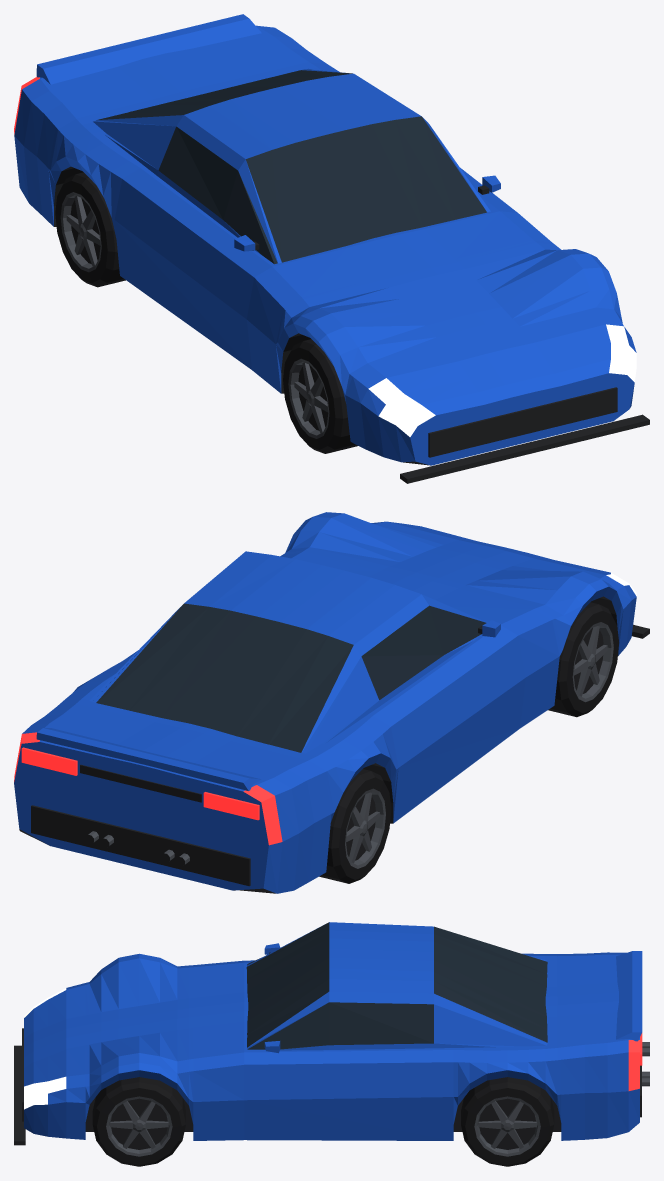
File: sports-car-01.glb
3 renders of one model, top to bottom at view 1: azimuth 30°, elevation 25°; view 2: azimuth 150°, elevation 25°; view 3: azimuth 270°, elevation 25°, orthographic. The views are drawn at different scales.
Visible parts, largest first — view 1: Body, Wheel_FR, Wheel_RR; view 2: Body, Wheel_RR, Wheel_FR; view 3: Body, Wheel_FL, Wheel_RL.
Boxes of the visible parts, <box> form: Body: <box>14,14,649,483</box>; Wheel_FR: <box>283,339,357,453</box>; Wheel_RR: <box>55,172,125,287</box>; Body: <box>14,512,649,893</box>; Wheel_RR: <box>319,769,391,883</box>; Wheel_FR: <box>548,602,619,717</box>; Body: <box>14,922,649,1145</box>; Wheel_FL: <box>92,1077,185,1166</box>; Wheel_RL: <box>461,1077,554,1166</box>.
Size of the model in its own units: 1.92 by 1.25 by 4.49.
